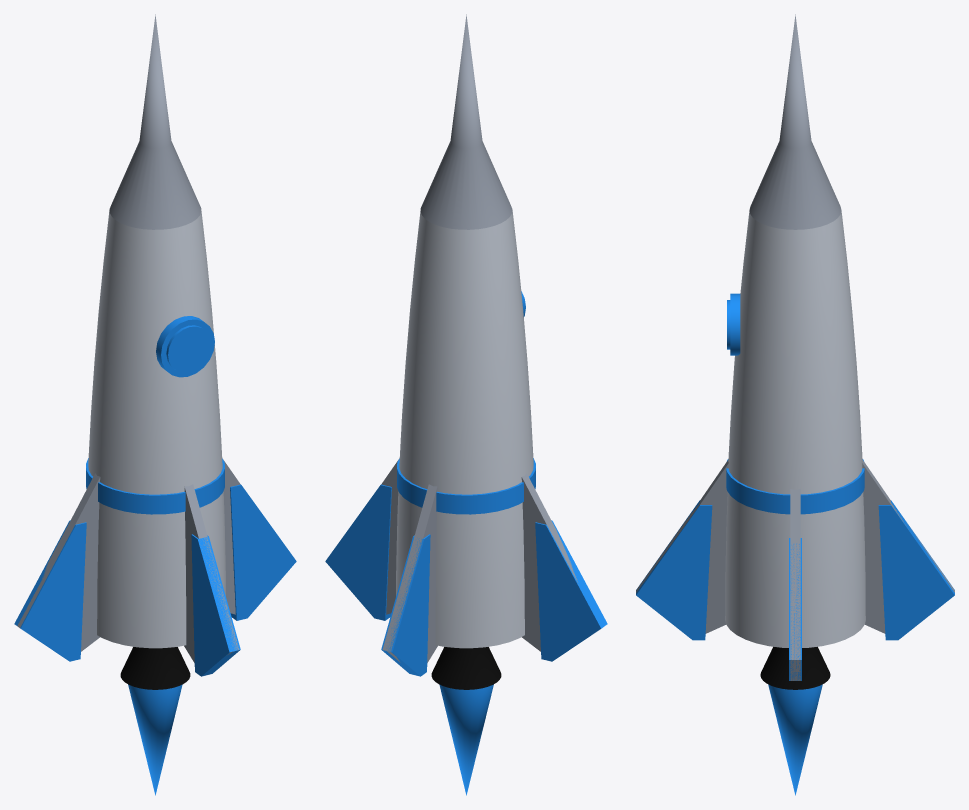
The model's file is Rocket_24_FrostLance.obj.
The picture shows the model from 3 angles, left to right: view 1: azimuth 30°, elevation 25°; view 2: azimuth 150°, elevation 25°; view 3: azimuth 270°, elevation 25°; orthographic projection.
Parts seen in each view (by area): view 1: R24_Body, R24_Nose, R24_FinGlow_2, R24_FinGlow_4, R24_FinGlow_3, R24_Fin_2, R24_Flame_1, R24_Band_1, R24_Nozzle_1, R24_Fin_3, R24_Window_1, R24_Fin_4 (+1 smaller); view 2: R24_Body, R24_Nose, R24_FinGlow_2, R24_FinGlow_4, R24_FinGlow_1, R24_Flame_1, R24_Fin_2, R24_Fin_1, R24_Band_1, R24_Nozzle_1, R24_Fin_4; view 3: R24_Body, R24_Nose, R24_FinGlow_1, R24_FinGlow_3, R24_Fin_3, R24_Fin_1, R24_Flame_1, R24_Band_1, R24_Fin_4, R24_Nozzle_1, R24_FinGlow_4, R24_WindowFrame_1.
Boxes of the visible parts, x1,y1,x2,y2 form: R24_Body: (88, 210, 225, 648); R24_Nose: (109, 14, 201, 229); R24_FinGlow_2: (14, 520, 86, 661); R24_FinGlow_4: (230, 484, 296, 620); R24_FinGlow_3: (191, 534, 240, 676); R24_Fin_2: (17, 473, 100, 651); R24_Flame_1: (128, 684, 182, 795); R24_Band_1: (86, 458, 224, 514); R24_Nozzle_1: (120, 647, 190, 689); R24_Fin_3: (184, 484, 239, 662); R24_Window_1: (166, 325, 211, 372); R24_Fin_4: (223, 459, 240, 614); R24_Body: (396, 210, 533, 648); R24_Nose: (420, 14, 512, 229); R24_FinGlow_2: (535, 520, 607, 661); R24_FinGlow_4: (325, 484, 391, 620); R24_FinGlow_1: (381, 534, 430, 676); R24_Flame_1: (439, 684, 493, 795); R24_Fin_2: (521, 473, 578, 651); R24_Fin_1: (382, 484, 437, 662); R24_Band_1: (397, 458, 535, 514); R24_Nozzle_1: (431, 647, 501, 689); R24_Fin_4: (381, 459, 398, 614); R24_Body: (725, 211, 865, 647); R24_Nose: (749, 14, 841, 229); R24_FinGlow_1: (878, 500, 954, 640); R24_FinGlow_3: (636, 500, 712, 640); R24_Fin_3: (636, 460, 728, 633); R24_Fin_1: (862, 460, 954, 633); R24_Flame_1: (768, 684, 822, 795); R24_Band_1: (726, 459, 864, 514); R24_Fin_4: (790, 489, 800, 680); R24_Nozzle_1: (760, 646, 830, 689); R24_FinGlow_4: (789, 538, 801, 680); R24_WindowFrame_1: (730, 293, 740, 355).
Size of the model in its own units: 3.82 by 10.35 by 3.82.
